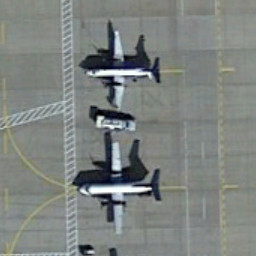Airplane: (71, 138, 174, 239), (75, 23, 171, 117)
